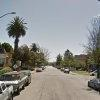Palm tree: (7, 14, 29, 61)
